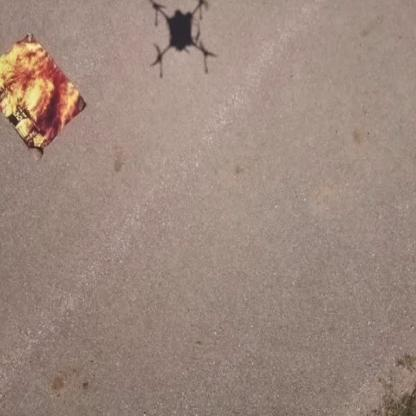fire-poster: (0, 31, 87, 160)
